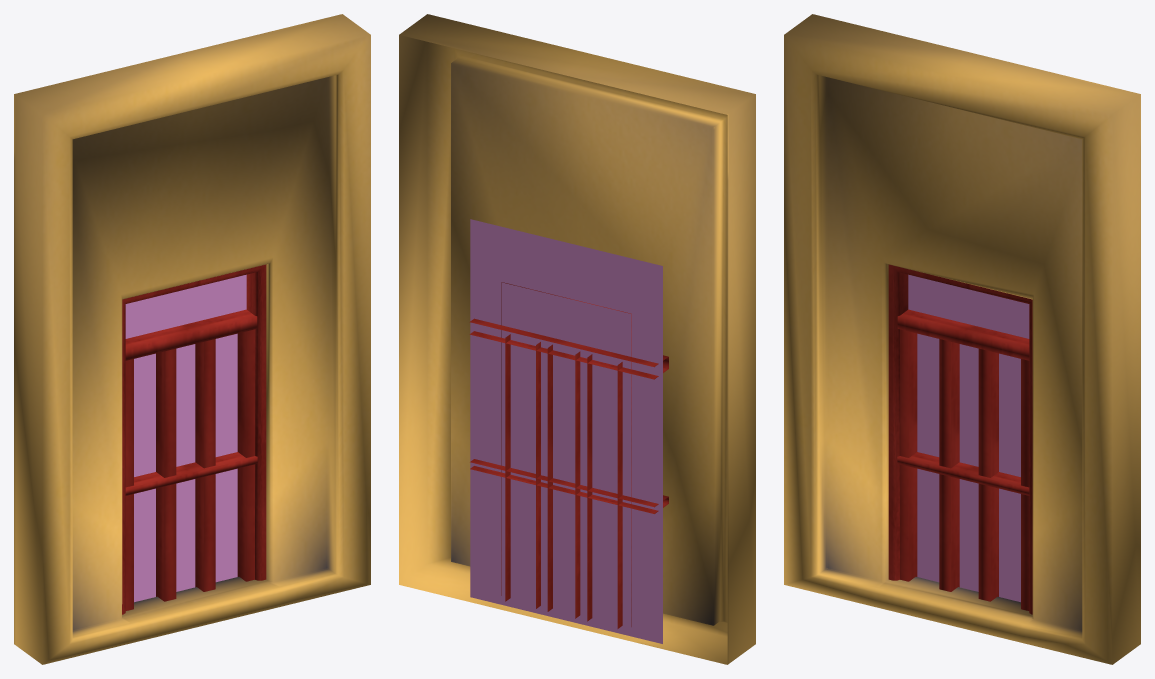
Rendered from JanelaSuperiorLateral.fbx.
3 views of the same model, side by side, from view 1: azimuth 30°, elevation 25°; view 2: azimuth 150°, elevation 25°; view 3: azimuth 330°, elevation 25° (orthographic).
Visible parts, largest first — view 1: ParedeJanelaSuperiorLateral, JanelaSuperiorLateral, VidroJanelaSuperiorLateral; view 2: ParedeJanelaSuperiorLateral, VidroJanelaSuperiorLateral, JanelaSuperiorLateral; view 3: ParedeJanelaSuperiorLateral, JanelaSuperiorLateral, VidroJanelaSuperiorLateral.
Part boxes in pixels (x1,y1,x2,y2): ParedeJanelaSuperiorLateral: (14, 14, 370, 664); JanelaSuperiorLateral: (122, 264, 266, 614); VidroJanelaSuperiorLateral: (125, 274, 246, 602); ParedeJanelaSuperiorLateral: (399, 14, 755, 664); VidroJanelaSuperiorLateral: (470, 219, 662, 643); JanelaSuperiorLateral: (469, 282, 668, 628); ParedeJanelaSuperiorLateral: (784, 14, 1140, 664); JanelaSuperiorLateral: (888, 264, 1032, 614); VidroJanelaSuperiorLateral: (908, 274, 1029, 602).
Bounding box in the file's own units: 200 × 320 × 31.74.
